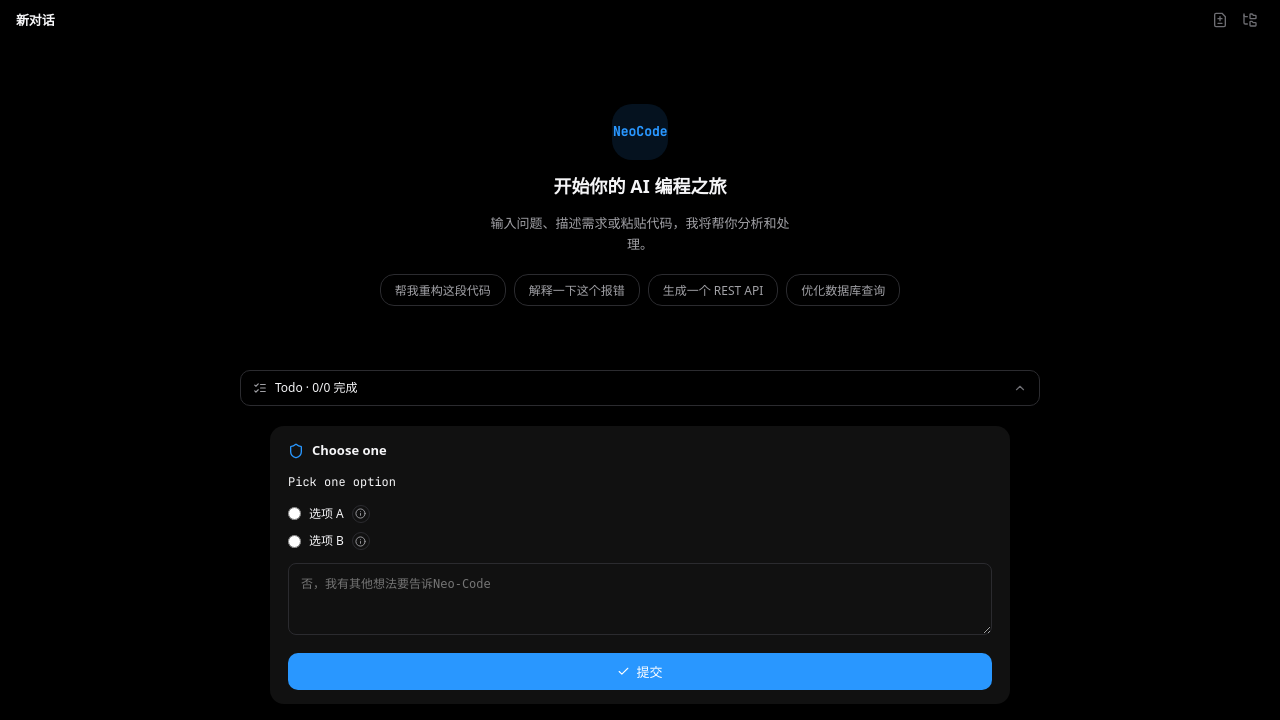
it: ChatPanel › renders option description tooltip icon for ask_user options
Check: the button named "查看选项说明：选项 B" is shown, box [352,532,370,550]
Click the button named "查看选项说明：选项 A": (361, 514) [352,505,370,523]
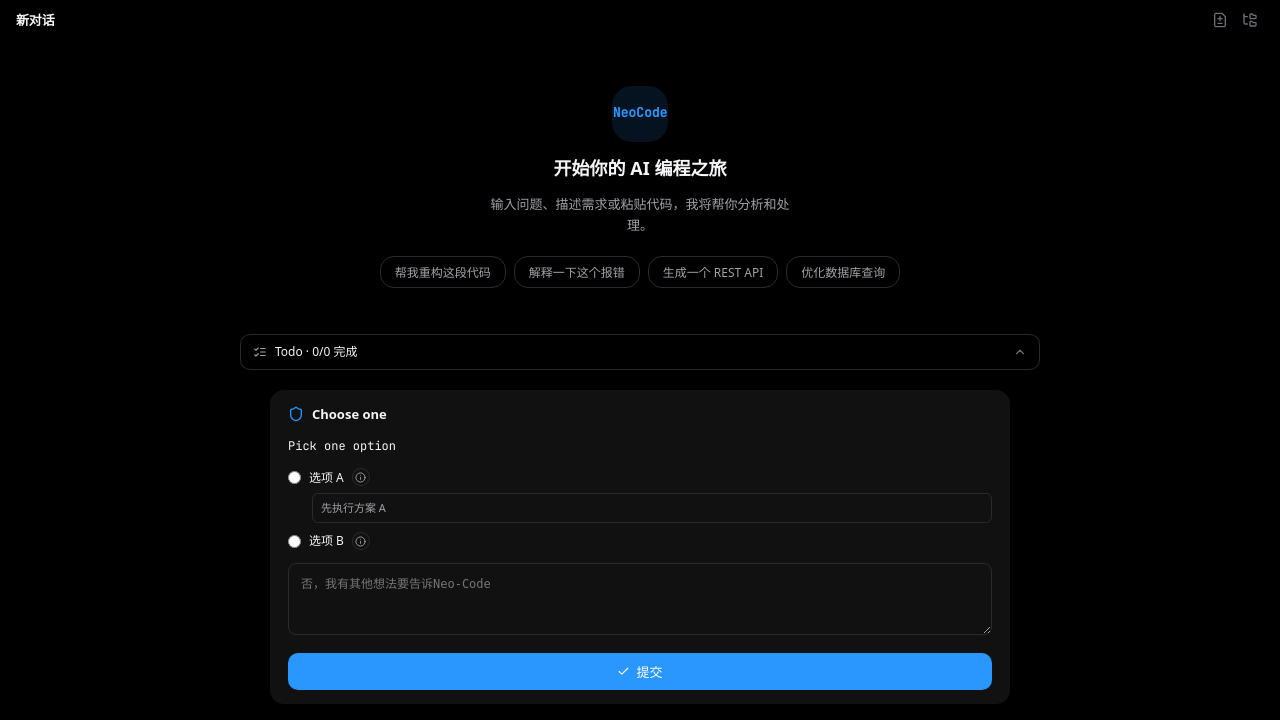
Check: the text "先执行方案 A" is shown, box [312,493,992,523]
